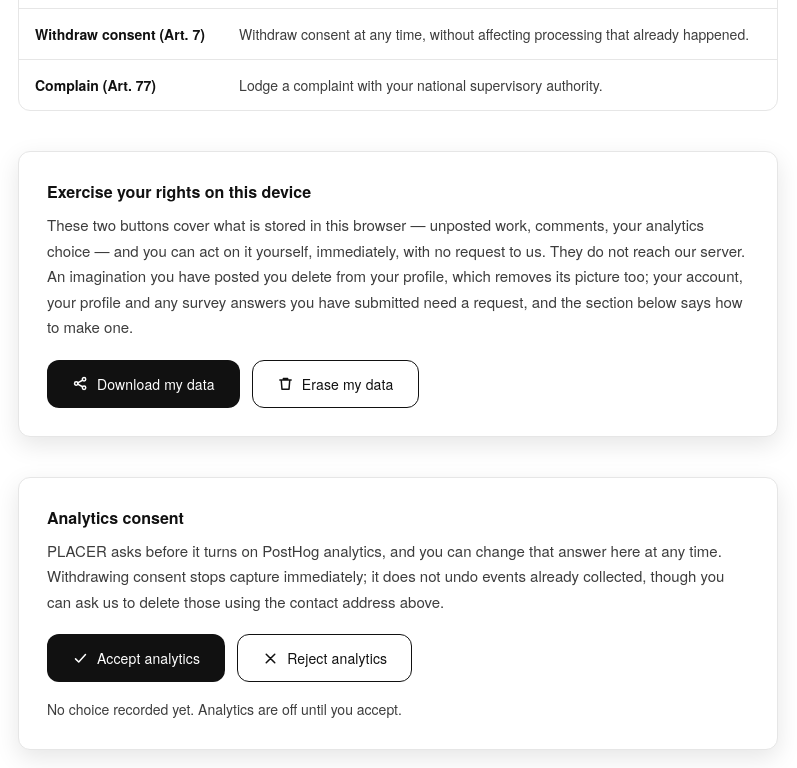
Scenario: TermsAndPrivacyPage data controls › downloads an export containing the locally stored data
The width and height of the screenshot is (797, 768).
(page scrolled)
Click the button "Download my data" at (143, 384), box [47, 360, 240, 408]
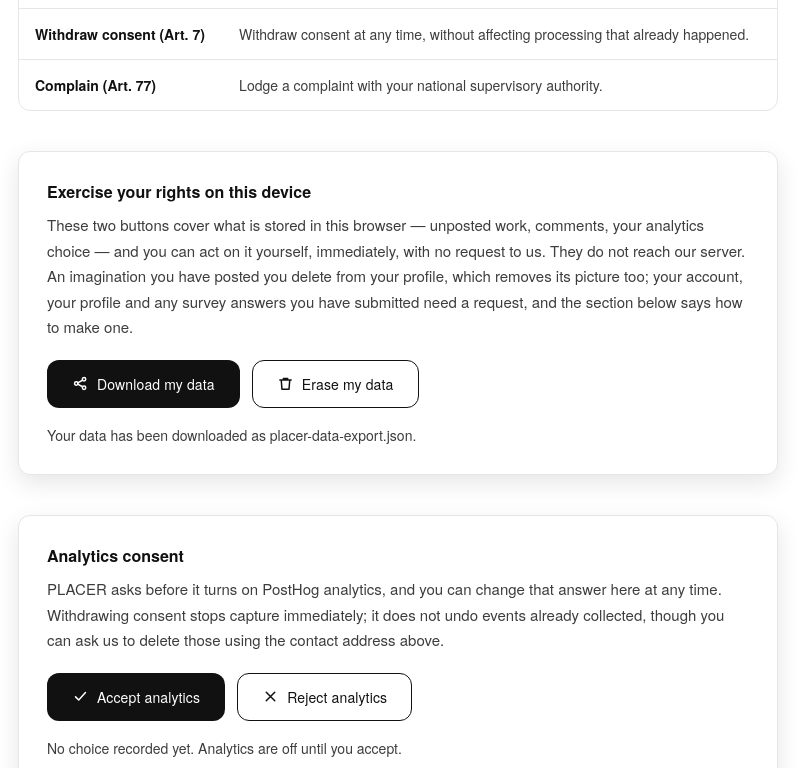
Check: the text "Your data has been downloaded as placer-data-export.json." is shown, box [47, 425, 416, 445]
